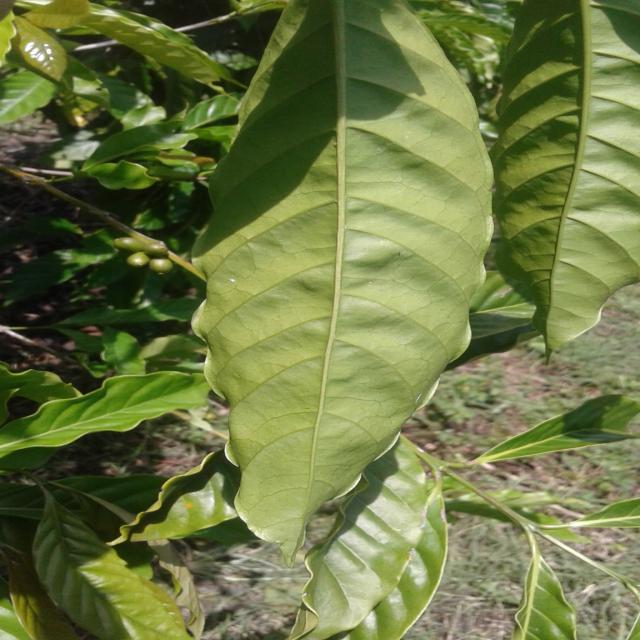Sanas: (192, 0, 493, 555)
